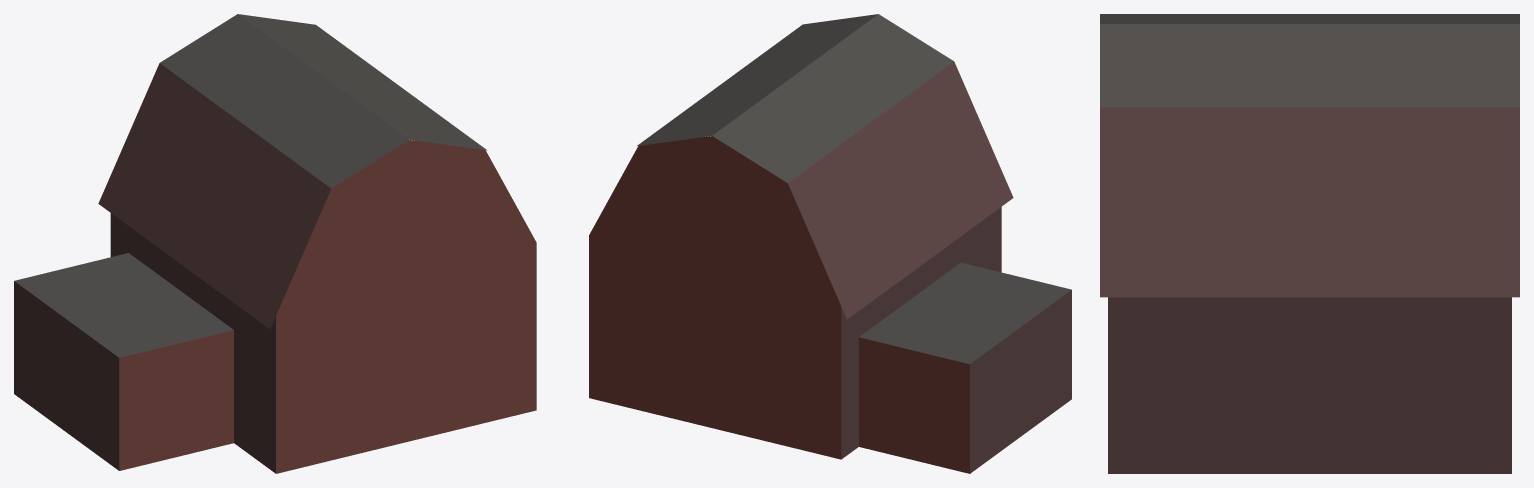
Rendered from cr-barn-lofts.far-facades-v3.lod2.glb.
3 views of the same model, side by side, from view 1: azimuth 30°, elevation 25°; view 2: azimuth 150°, elevation 25°; view 3: azimuth 270°, elevation 25° (orthographic). The views are drawn at different scales.
Parts seen in each view (by area): view 1: cr-barn-lofts; view 2: cr-barn-lofts; view 3: cr-barn-lofts.
Boxes of the visible parts, <box> form: cr-barn-lofts: <box>14,14,536,473</box>; cr-barn-lofts: <box>589,14,1071,473</box>; cr-barn-lofts: <box>1100,14,1519,473</box>.
Size of the model in its own units: 14.75 by 11.18 by 11.42.
